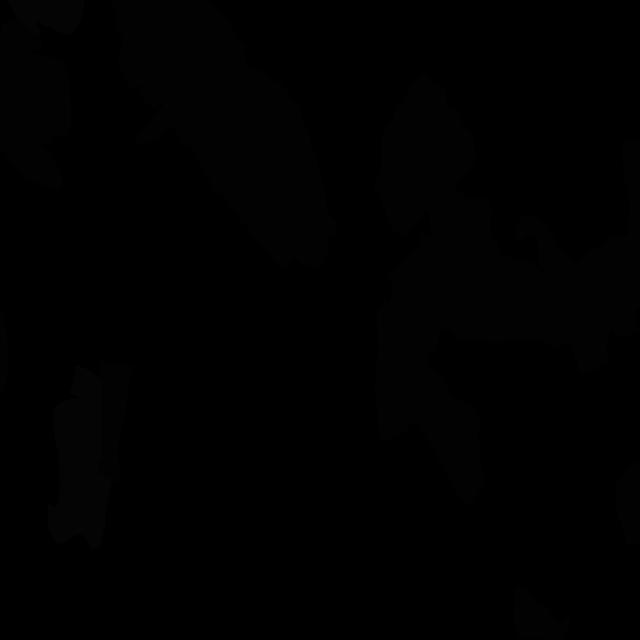cardboard: (374, 223, 611, 505), (109, 0, 338, 269), (373, 73, 492, 239), (515, 214, 640, 337), (0, 17, 71, 192), (98, 361, 135, 483), (513, 586, 571, 640), (622, 137, 640, 291), (614, 458, 640, 546), (0, 305, 8, 396)
soft_plastic: (48, 365, 112, 550), (8, 0, 84, 37)
